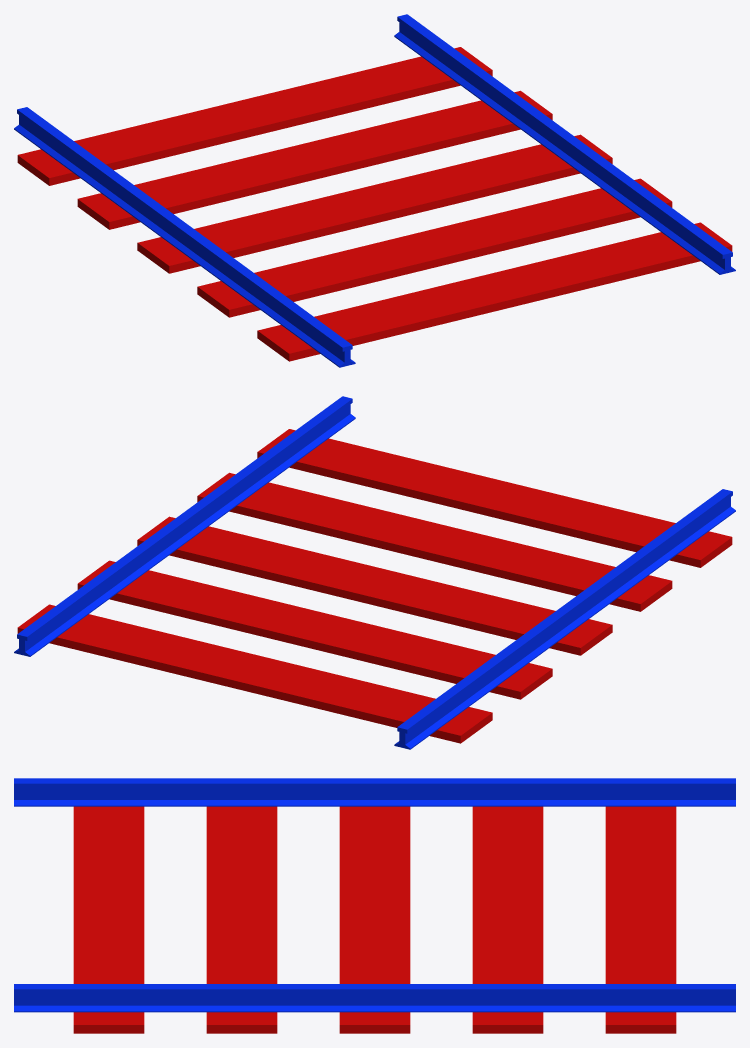
The model's file is 5_railway_tracks.fbx.
3 views of the same model, one above another, from view 1: azimuth 30°, elevation 25°; view 2: azimuth 150°, elevation 25°; view 3: azimuth 270°, elevation 25° (orthographic). The views are drawn at different scales.
Parts seen in each view (by area): view 1: wooden planks; view 2: wooden planks; view 3: wooden planks.
Part boxes in pixels (left/top/right/bottom): wooden planks: left=14, top=14, right=735, bottom=367; wooden planks: left=14, top=396, right=735, bottom=749; wooden planks: left=14, top=778, right=735, bottom=1033.
Size of the model in its own units: 312 by 18.27 by 397.
